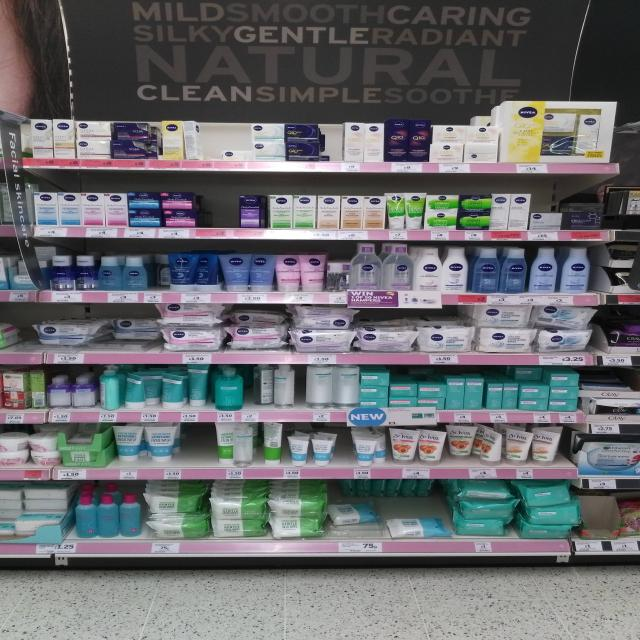void: (202, 179, 238, 239), (1, 309, 40, 364), (583, 490, 612, 554), (185, 423, 212, 479), (201, 114, 226, 166)
